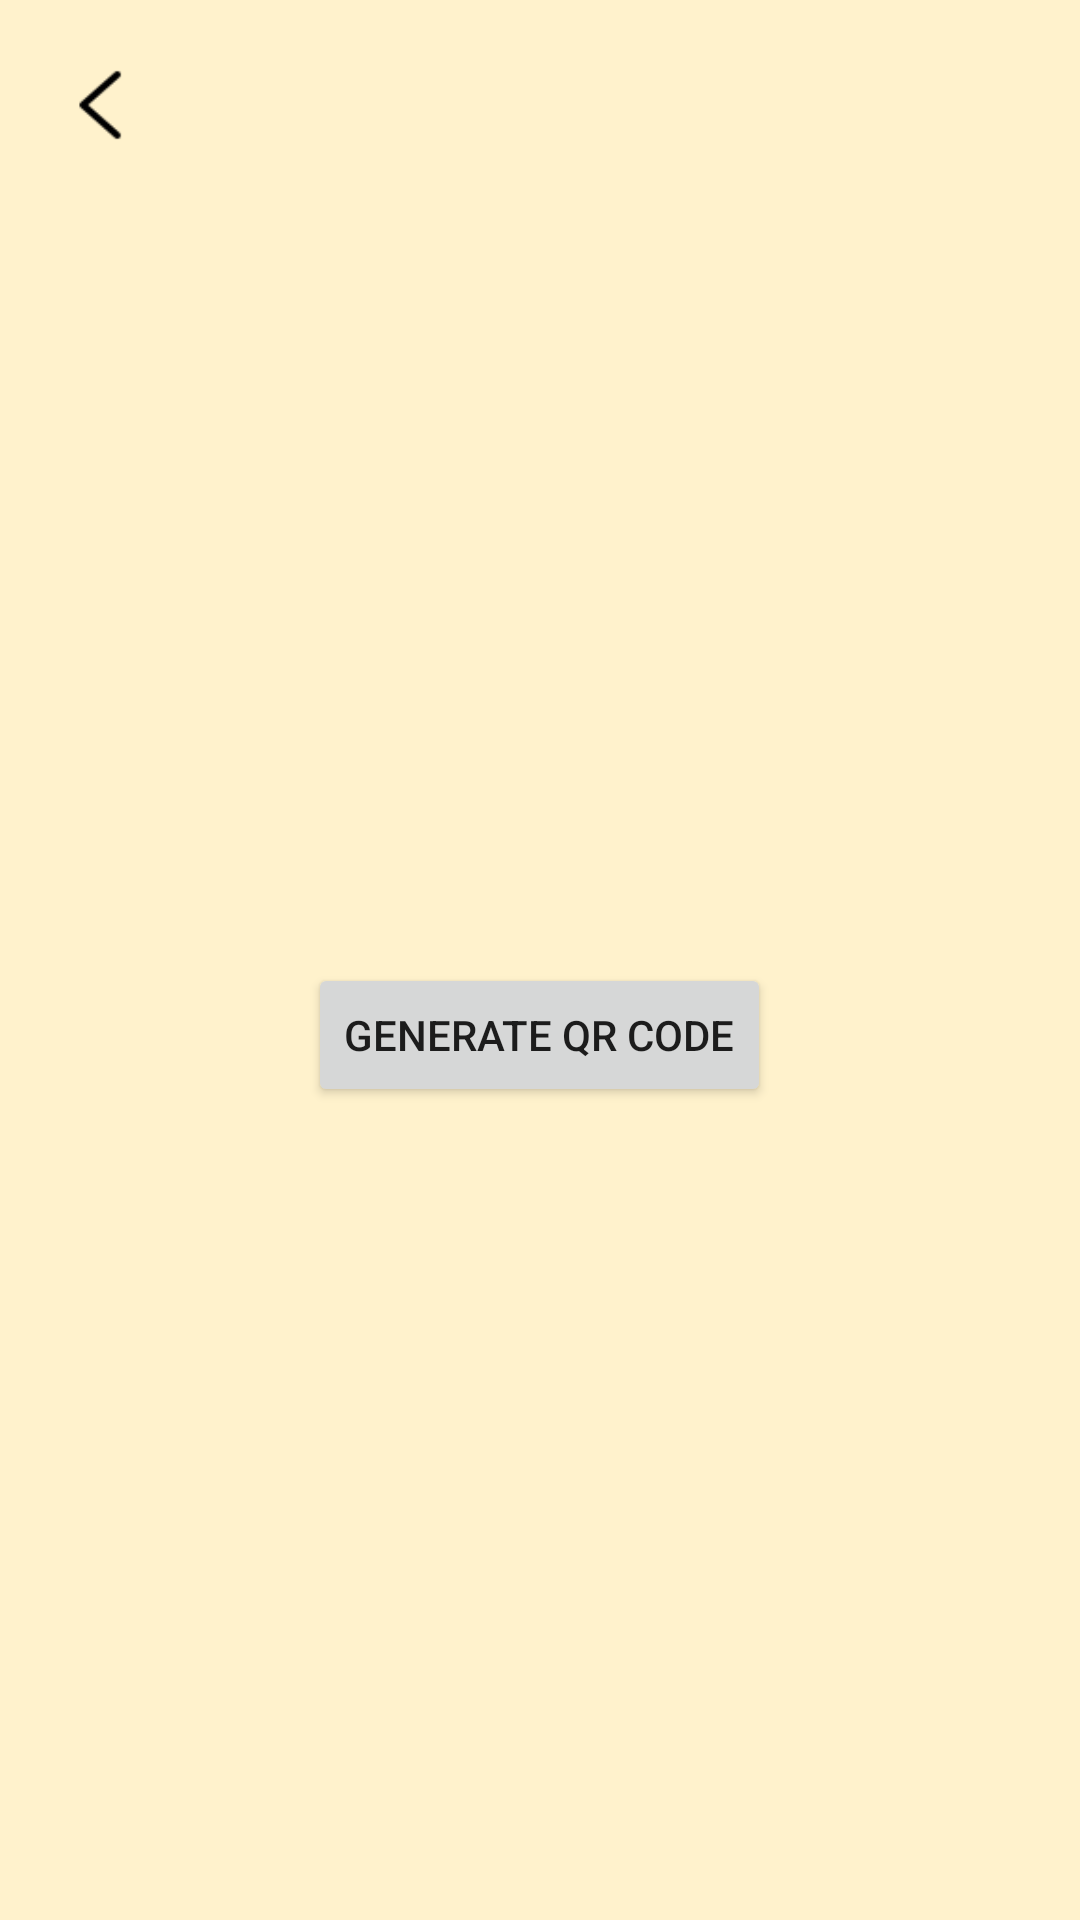

Screen size 1080px x 1920px. Icon name, then its center in pixels as (x,y):
back: (100,105)
